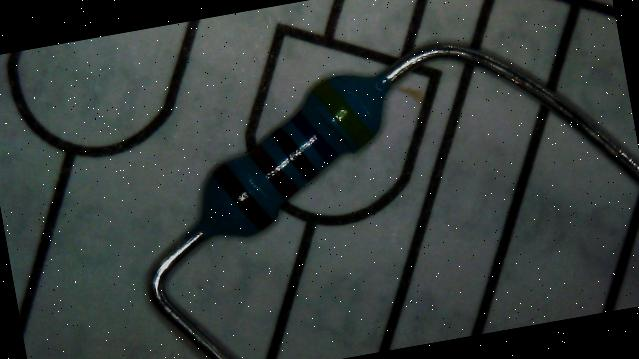black: (272, 122, 320, 186)
brown: (212, 156, 272, 235)
red: (248, 139, 298, 202)
resistor: (160, 34, 431, 265)
violet: (290, 106, 338, 166)
yellow: (311, 74, 372, 152)
